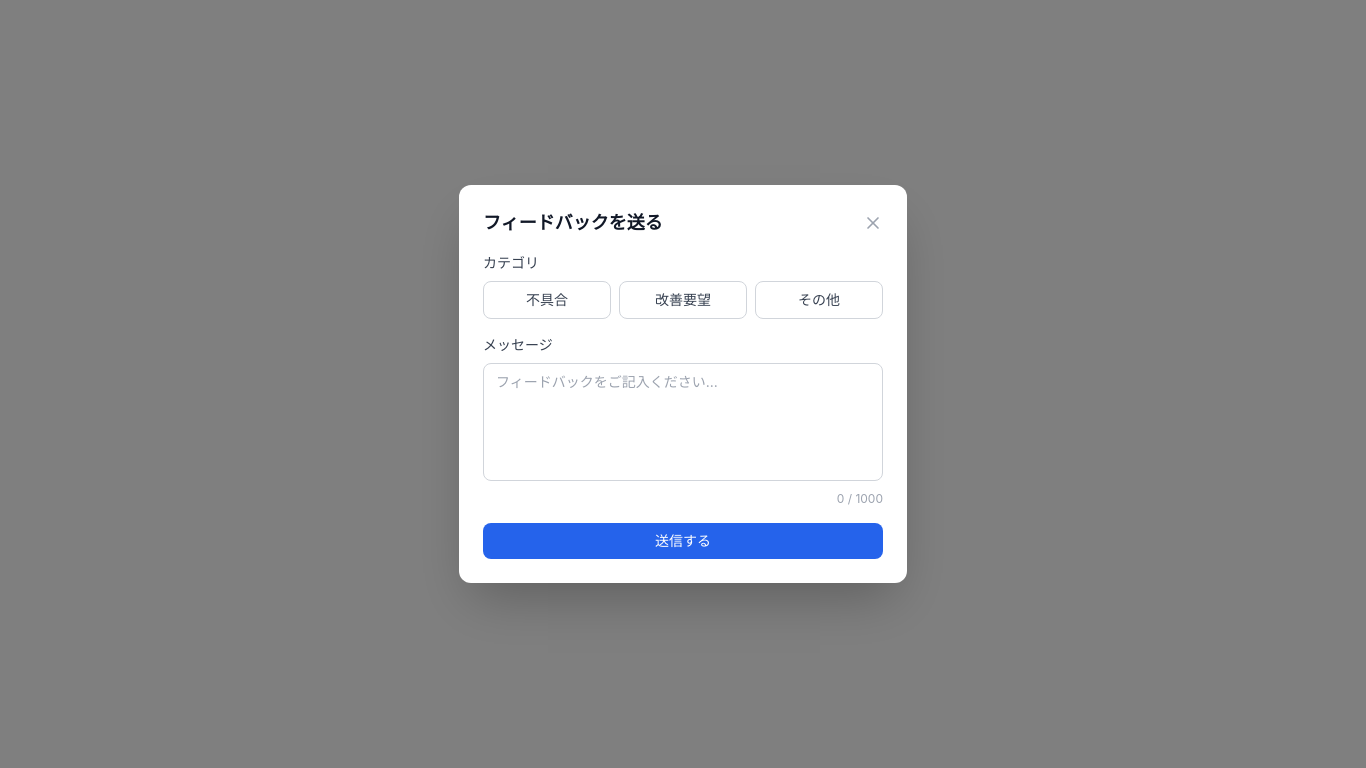
FeedbackModal › カテゴリ未選択で送信するとエラーが表示され mutation が呼ばれない
In the text box: (683, 422) 483,363 -> 883,481, type "テストメッセージ"
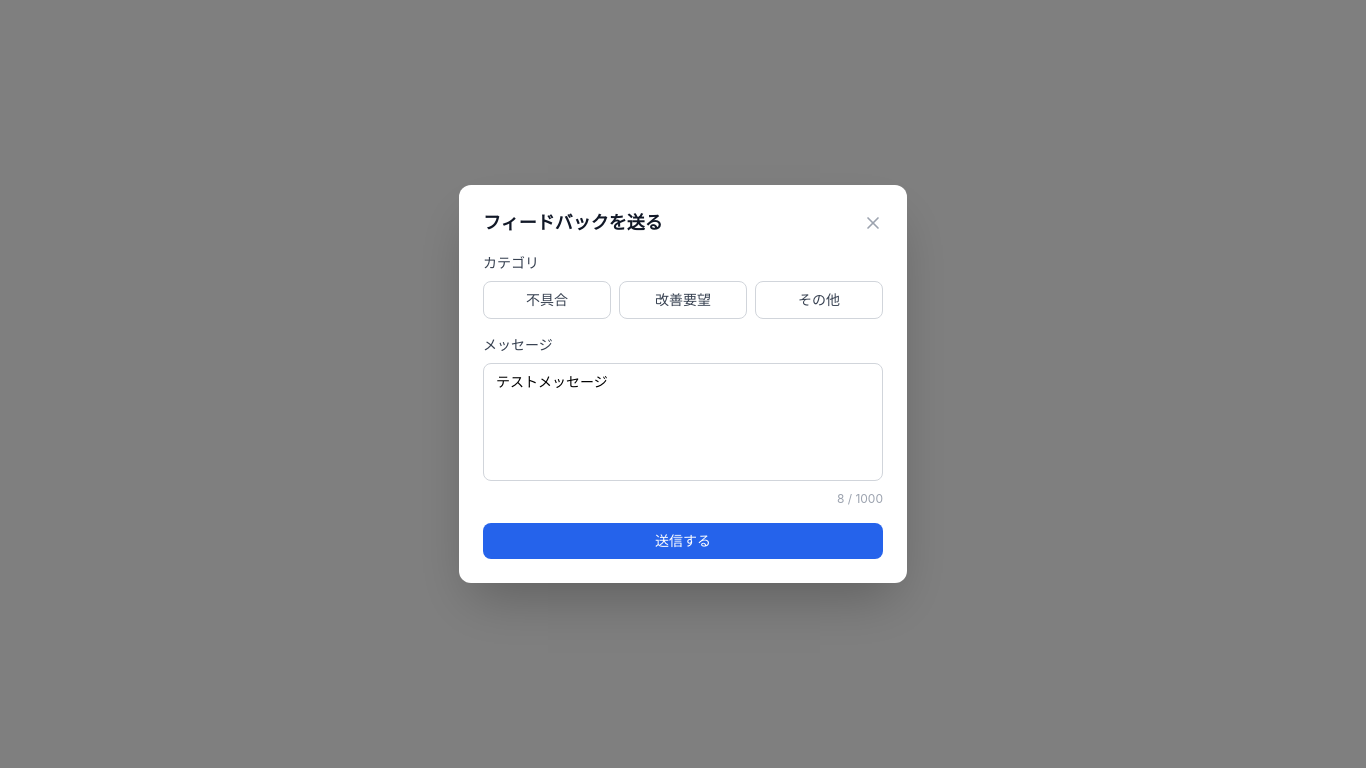
Click the button "送信する": (683, 541) 483,523 -> 883,559
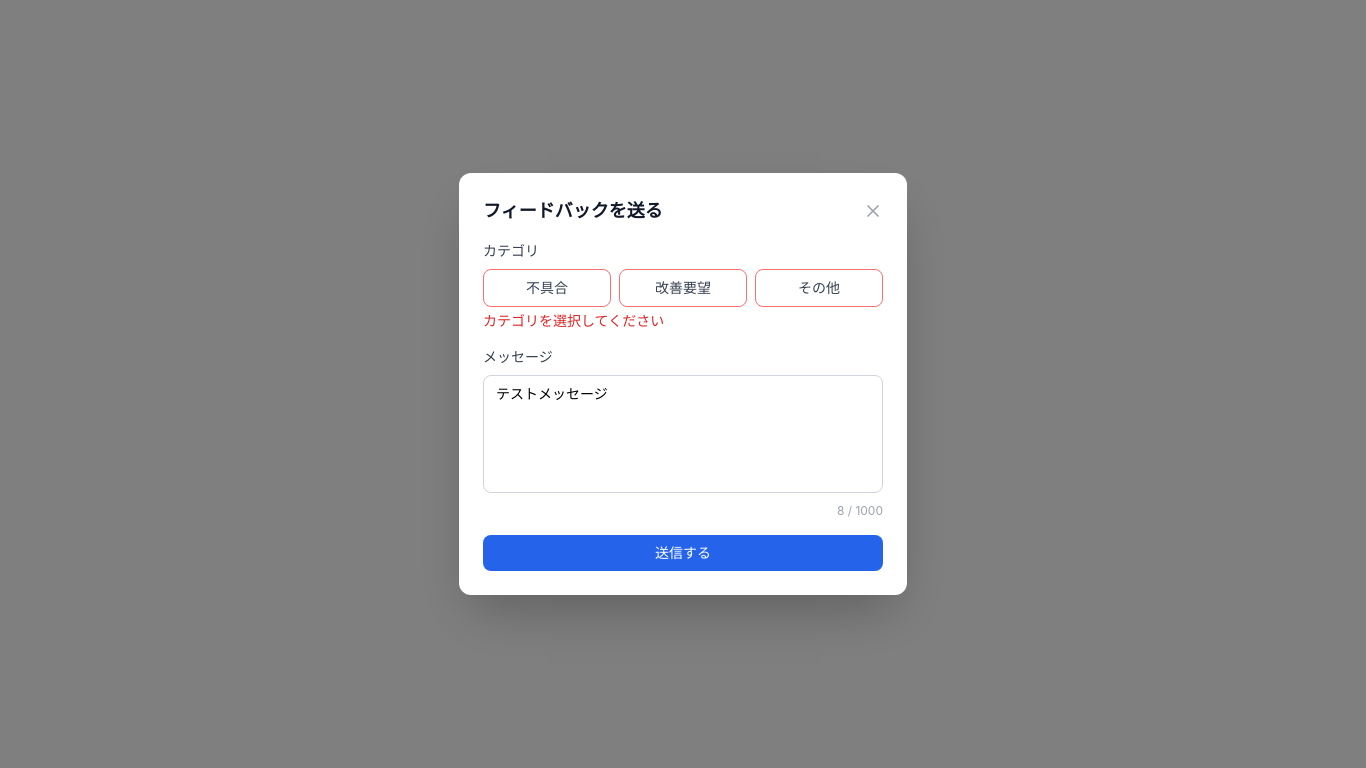
expect the text "カテゴリを選択してください" is shown: met, box 483,312 -> 664,329
